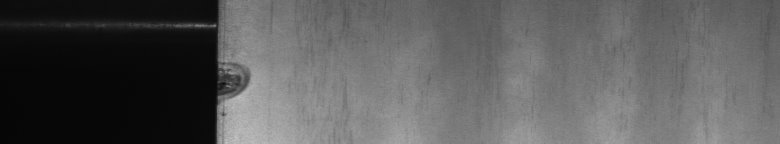hb: (228, 54, 257, 104)
